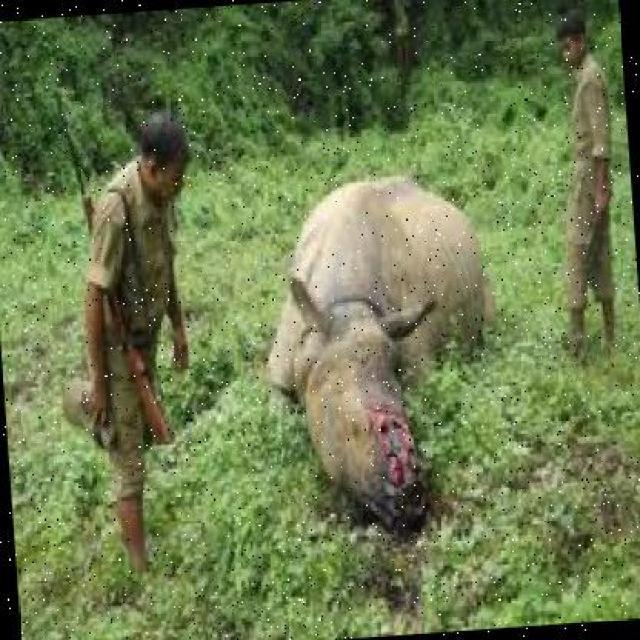p_collect: (234, 138, 516, 550)
p_export: (32, 15, 618, 600)
poacher: (70, 104, 204, 556), (551, 8, 614, 357)
weapon: (41, 86, 132, 432)
